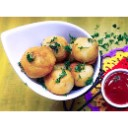bonda: (20, 48, 54, 75), (46, 69, 74, 93), (40, 35, 68, 59), (73, 37, 99, 62), (67, 62, 94, 82)
